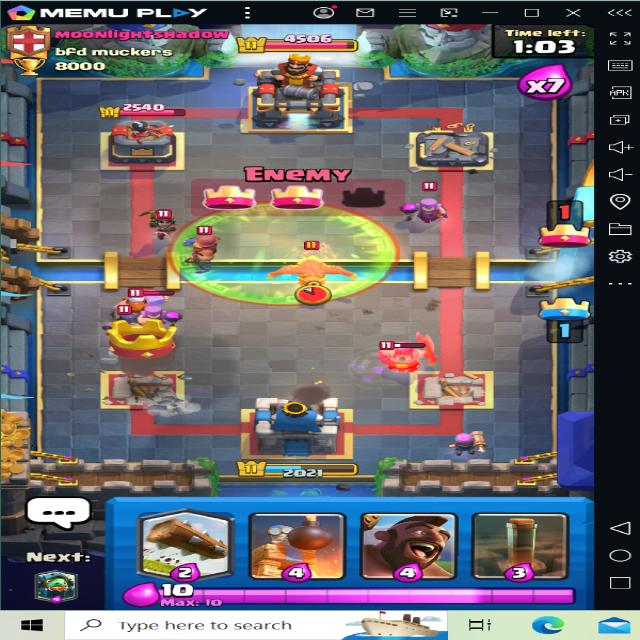executioner: (374, 339, 431, 379)
fisherman: (181, 222, 251, 270)
goblin-curse: (169, 200, 402, 306)
little-prince: (136, 186, 184, 226)
lumberjack: (108, 286, 167, 315)
mother-witch: (126, 296, 191, 345), (401, 179, 455, 231)
phoenix: (262, 242, 355, 292)
